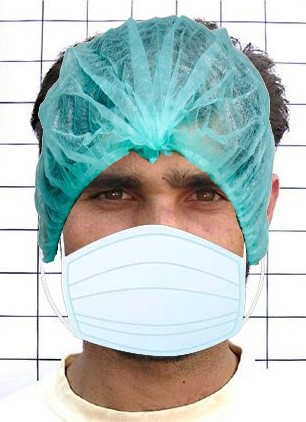with_mask_and_cap: (42, 22, 275, 356)
